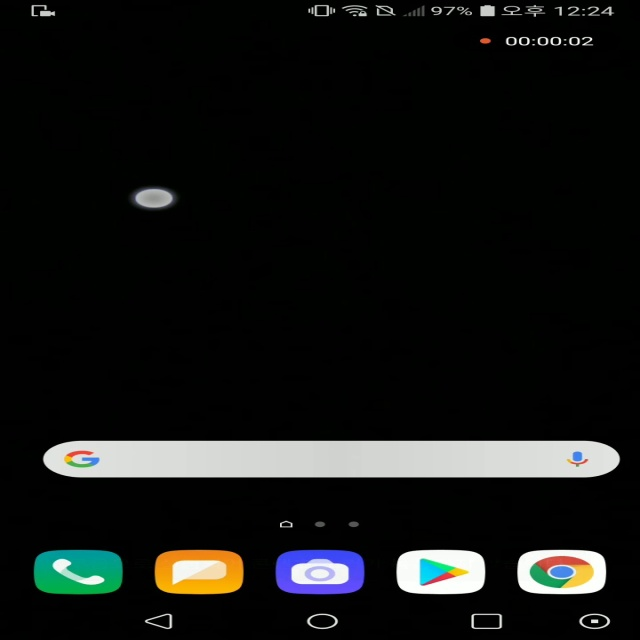Cursor: (132, 187, 176, 209)
